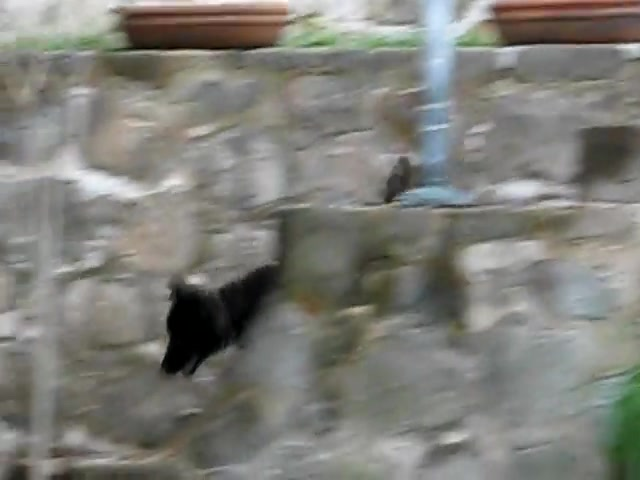dog: (159, 267, 282, 385)
